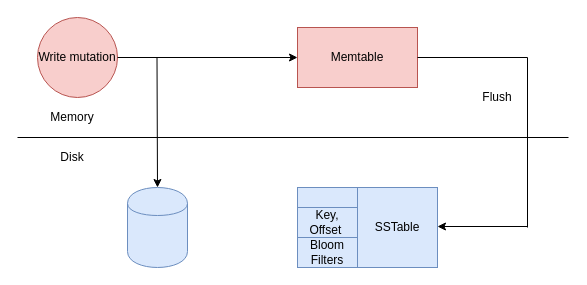
Some shapes in this 587 by 285 pixel diagram are drawn without their labels. Each missing label, with the centre of its shape:
commit Log: point (157, 227)
Index: point (327, 197)
